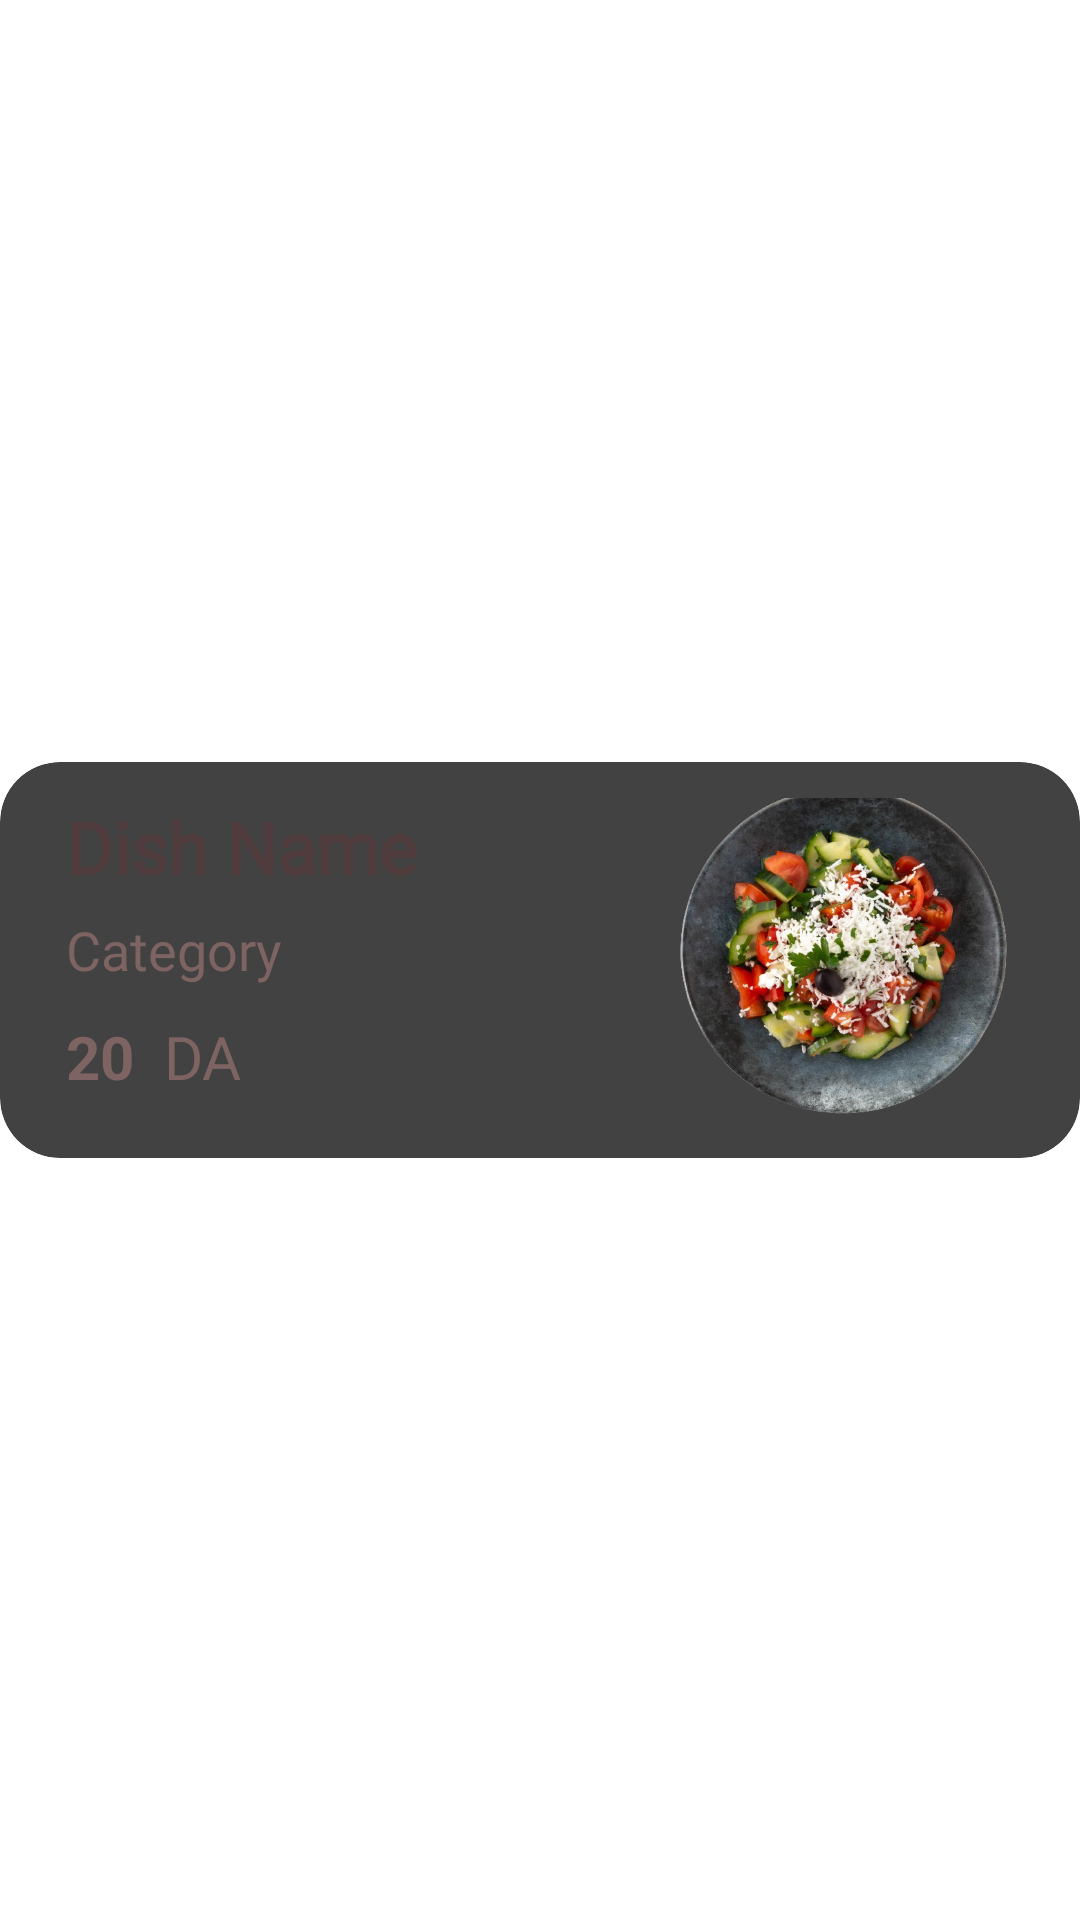

Locate icon controls on the screen. Image size 1080x1920, boxes as (x1, y1, x2, y2).
dish pic: (680, 798, 1007, 1114)
